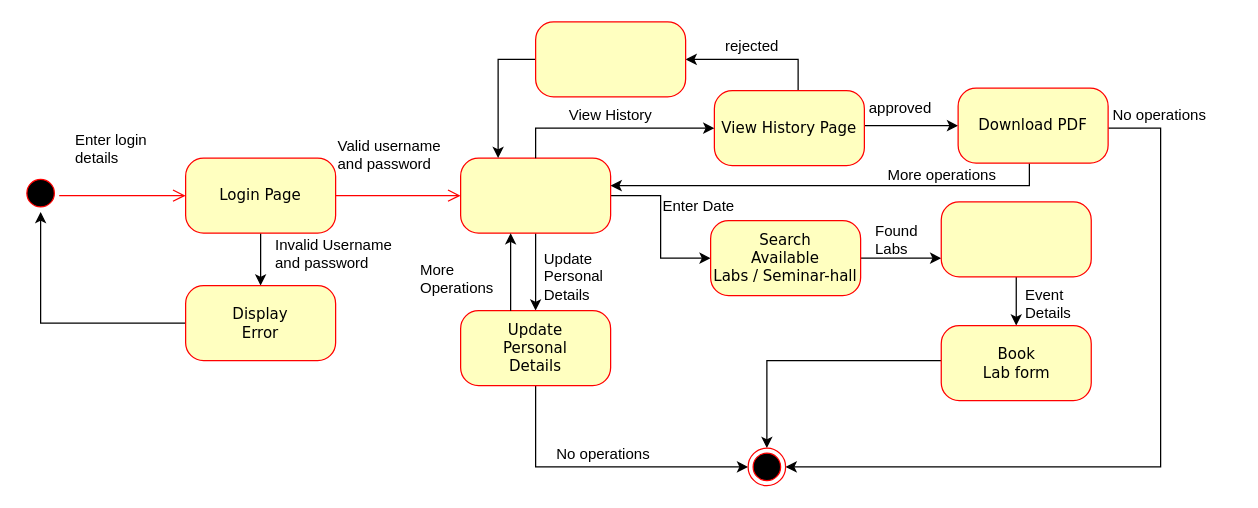
Image size: 1258x508. Some labels were removed from this diagram. The centre of each missing label's shape, as x and y in pixels:
"Make Request" goes at [1015,239].
"Teacher Page" goes at [535,195].
"View Reason" goes at [610,59].
